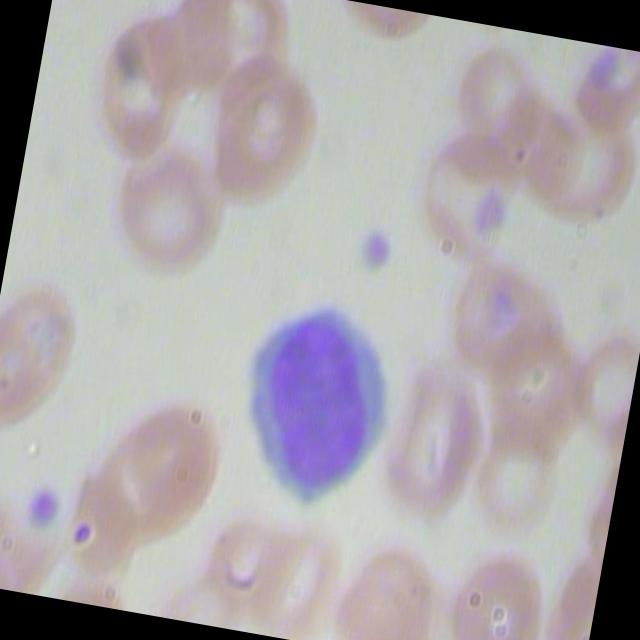Platelets: (349, 220, 402, 280), (18, 476, 68, 536)
WBC: (222, 285, 422, 529)
